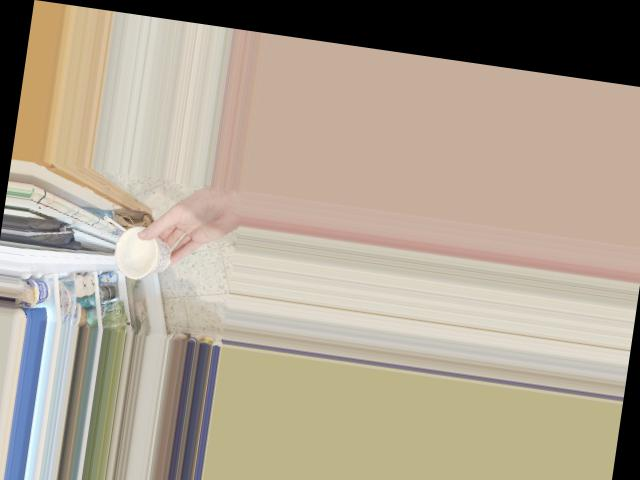cotage: (106, 230, 176, 276)
